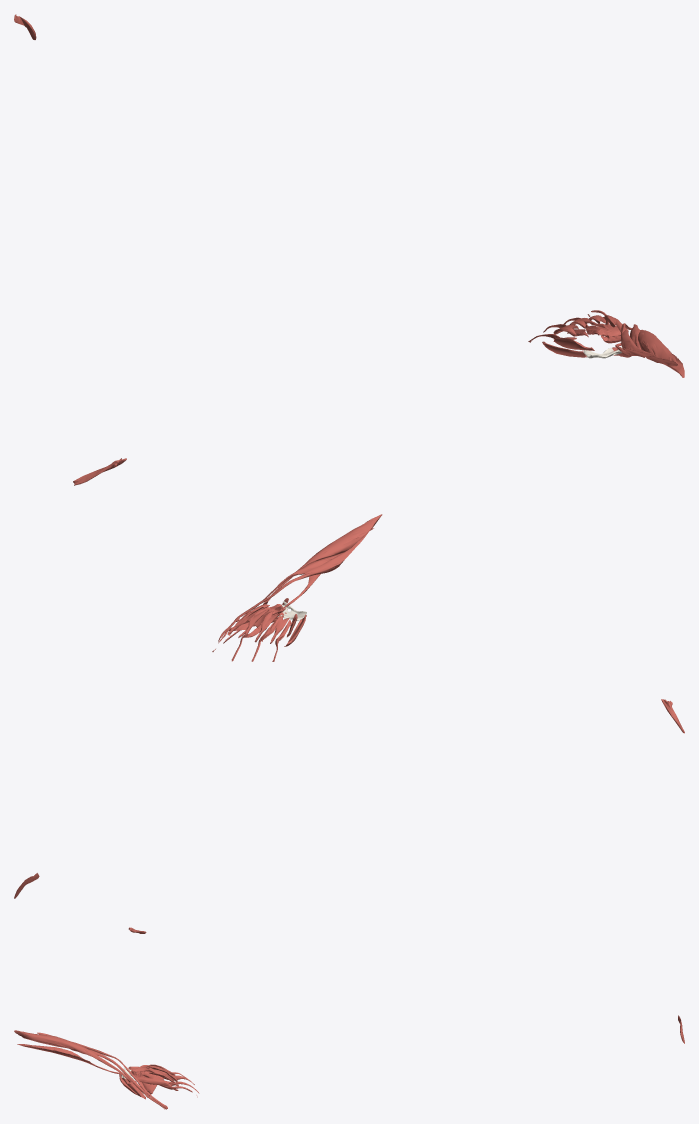
Rendered from handm.glb.
The picture shows the model from 3 angles, top to bottom: view 1: azimuth 30°, elevation 25°; view 2: azimuth 150°, elevation 25°; view 3: azimuth 270°, elevation 25°; orthographic projection. The views are drawn at different scales.
Visible parts, largest first — view 1: left abductor pollicis longus; view 2: left abductor pollicis longus, set of dorsal interossei of left hand, left extensor pollicis longus; view 3: left abductor pollicis longus, set of dorsal interossei of left hand, left flexor pollicis longus, left extensor pollicis longus, set of lumbricals of left hand.
Part boxes in pixels (x1,y1,x2,y2): left abductor pollicis longus: (638,329,678,366); left abductor pollicis longus: (263,514,382,604); set of dorsal interossei of left hand: (227,604,289,643); left extensor pollicis longus: (218,530,369,641); left abductor pollicis longus: (14,1030,131,1082); set of dorsal interossei of left hand: (135,1064,178,1090); left flexor pollicis longus: (17,1044,164,1109); left extensor pollicis longus: (37,1032,167,1109); set of lumbricals of left hand: (143,1069,199,1097).
Bounding box in the file's own units: 621 × 95.83 × 1035.
